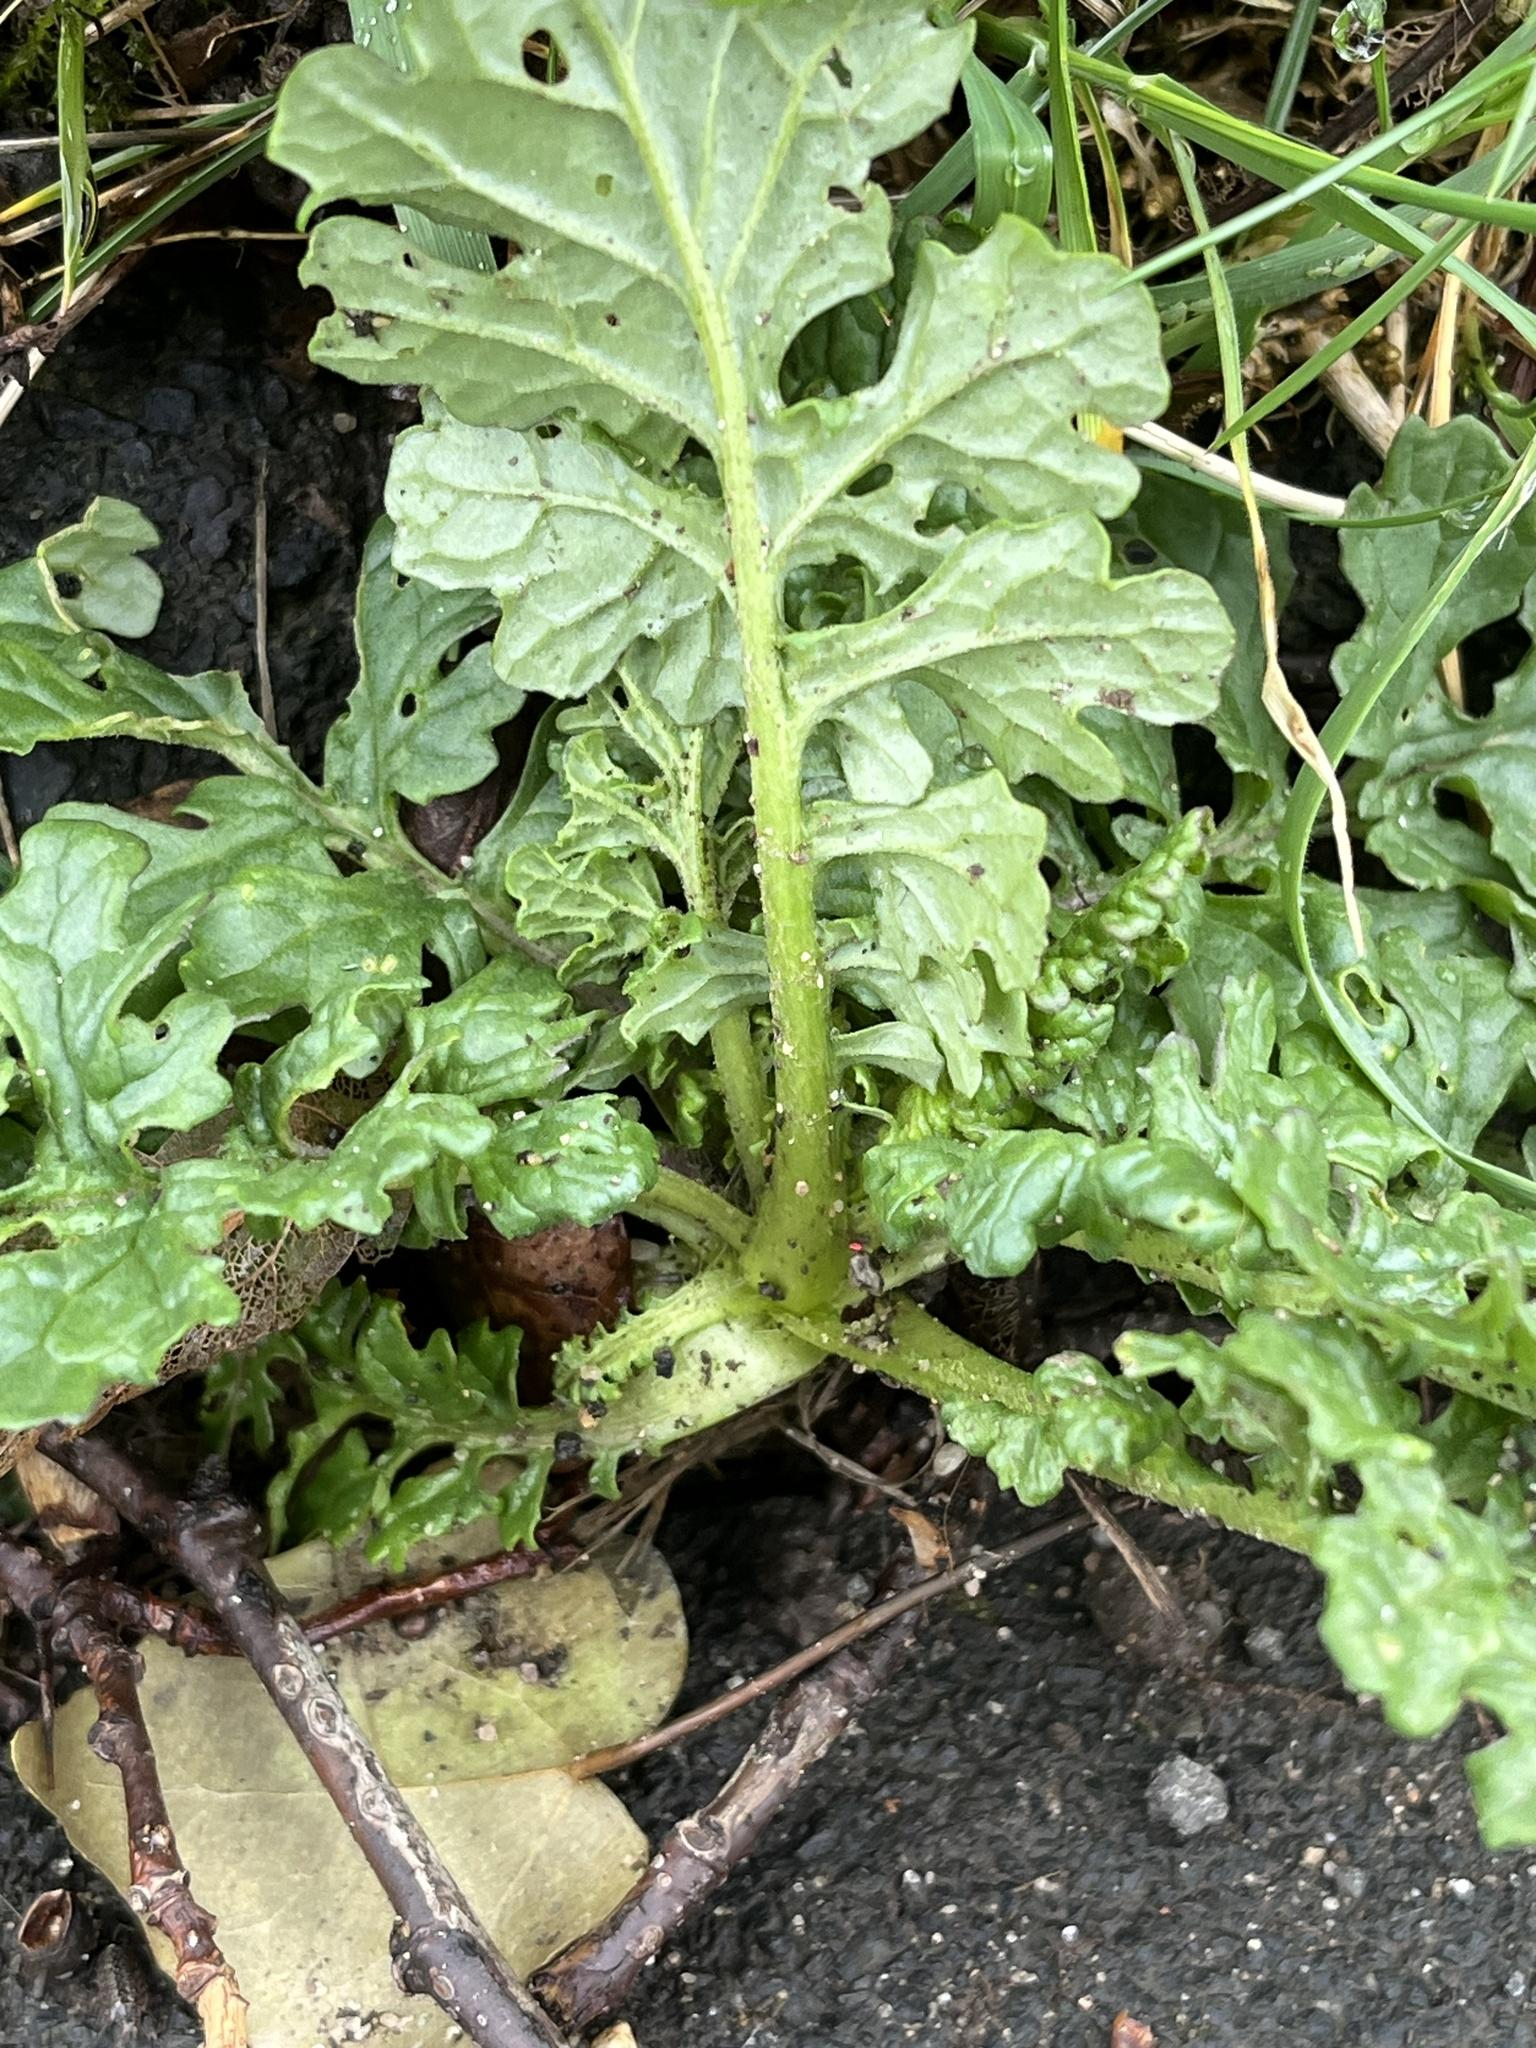Jacobaea vulgaris: (0, 0, 1536, 1873)
